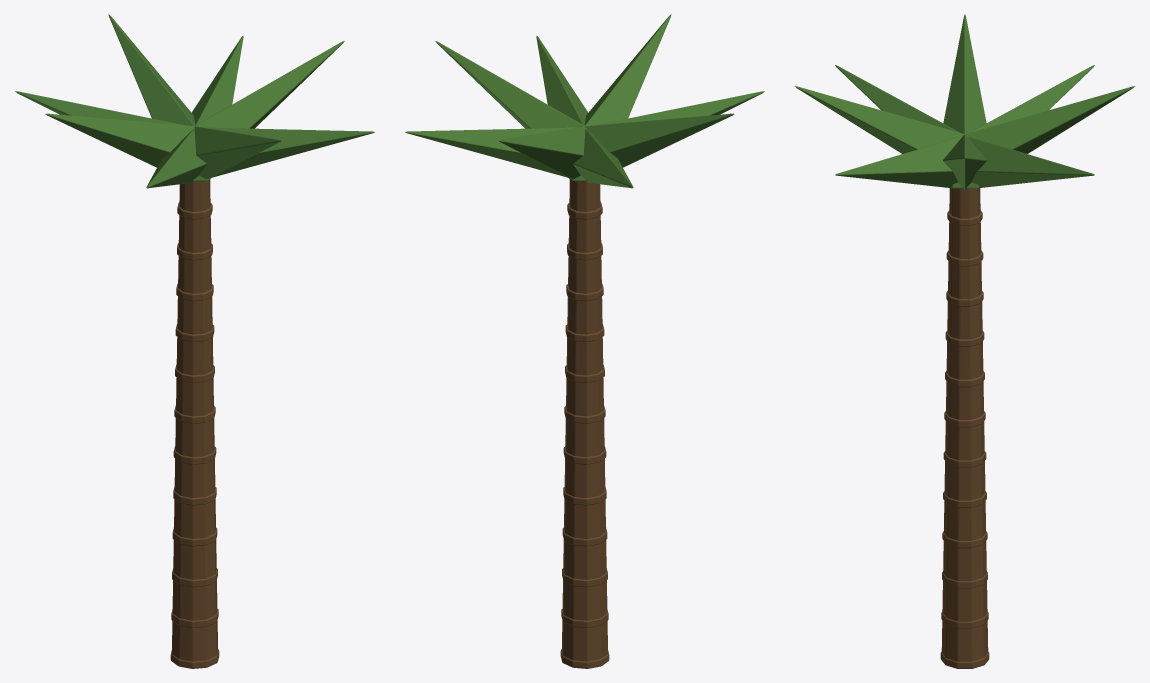
The model's file is mesopotamia_palm.fbx.
The picture shows the model from 3 angles, left to right: view 1: azimuth 30°, elevation 25°; view 2: azimuth 150°, elevation 25°; view 3: azimuth 270°, elevation 25°; orthographic projection.
Visible parts, largest first — view 1: mesopotamia_palm; view 2: mesopotamia_palm; view 3: mesopotamia_palm.
Part boxes in pixels (x1,y1,x2,y2): mesopotamia_palm: (15, 14, 374, 668); mesopotamia_palm: (405, 14, 764, 668); mesopotamia_palm: (794, 14, 1135, 668).
Bounding box in the file's own units: 3.48 × 6.45 × 3.48.
